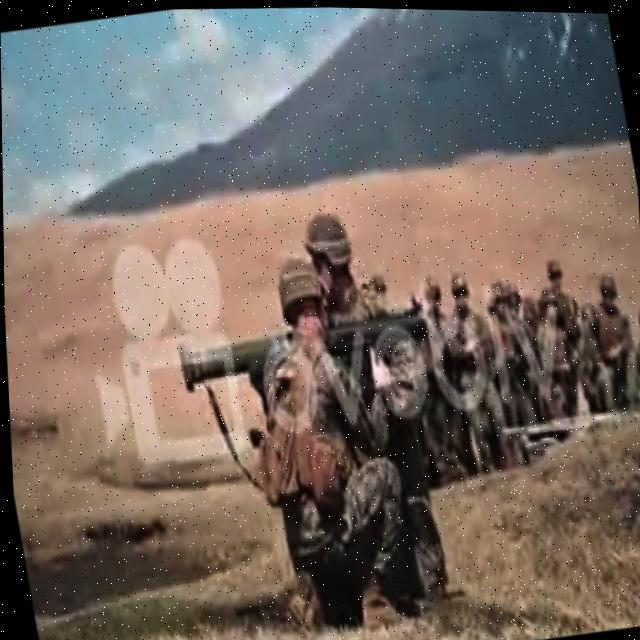rocket: (172, 293, 432, 392)
